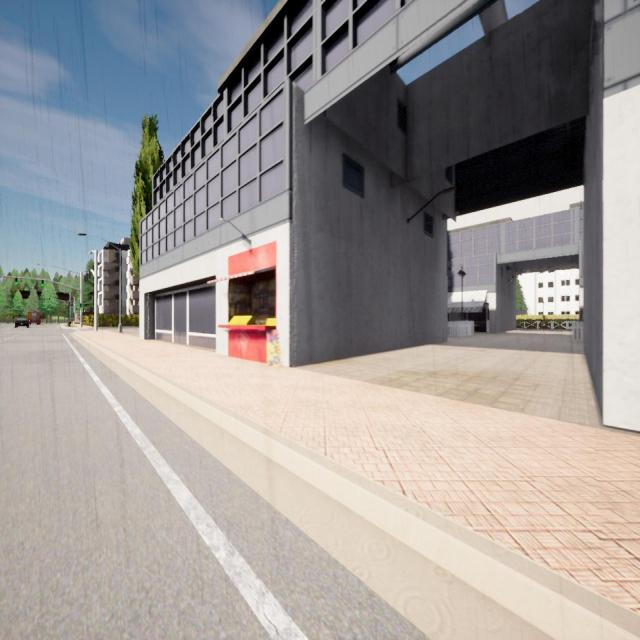Vehicle: (27, 311, 41, 325), (15, 316, 29, 328)
traffic_light: (15, 278, 18, 285), (86, 273, 88, 281), (89, 270, 91, 278), (42, 280, 44, 287), (80, 304, 82, 310), (84, 275, 85, 282)
